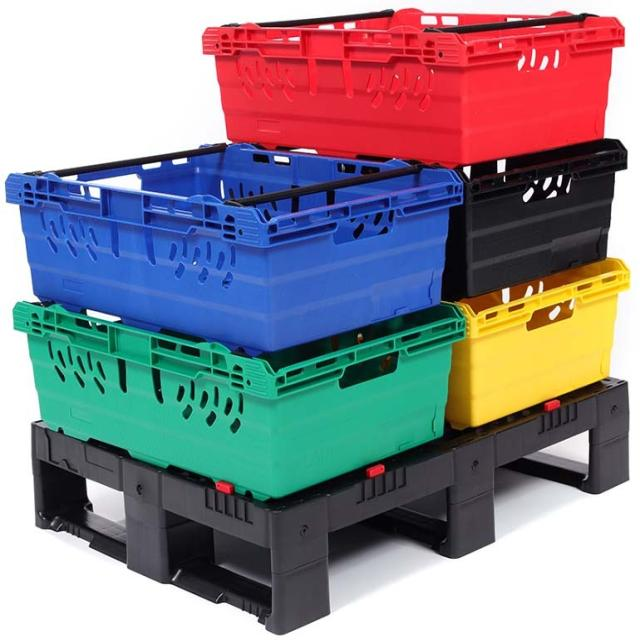basket: (0, 118, 467, 375), (13, 302, 466, 501), (199, 0, 627, 173)
